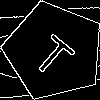T: (29, 26, 83, 80)
